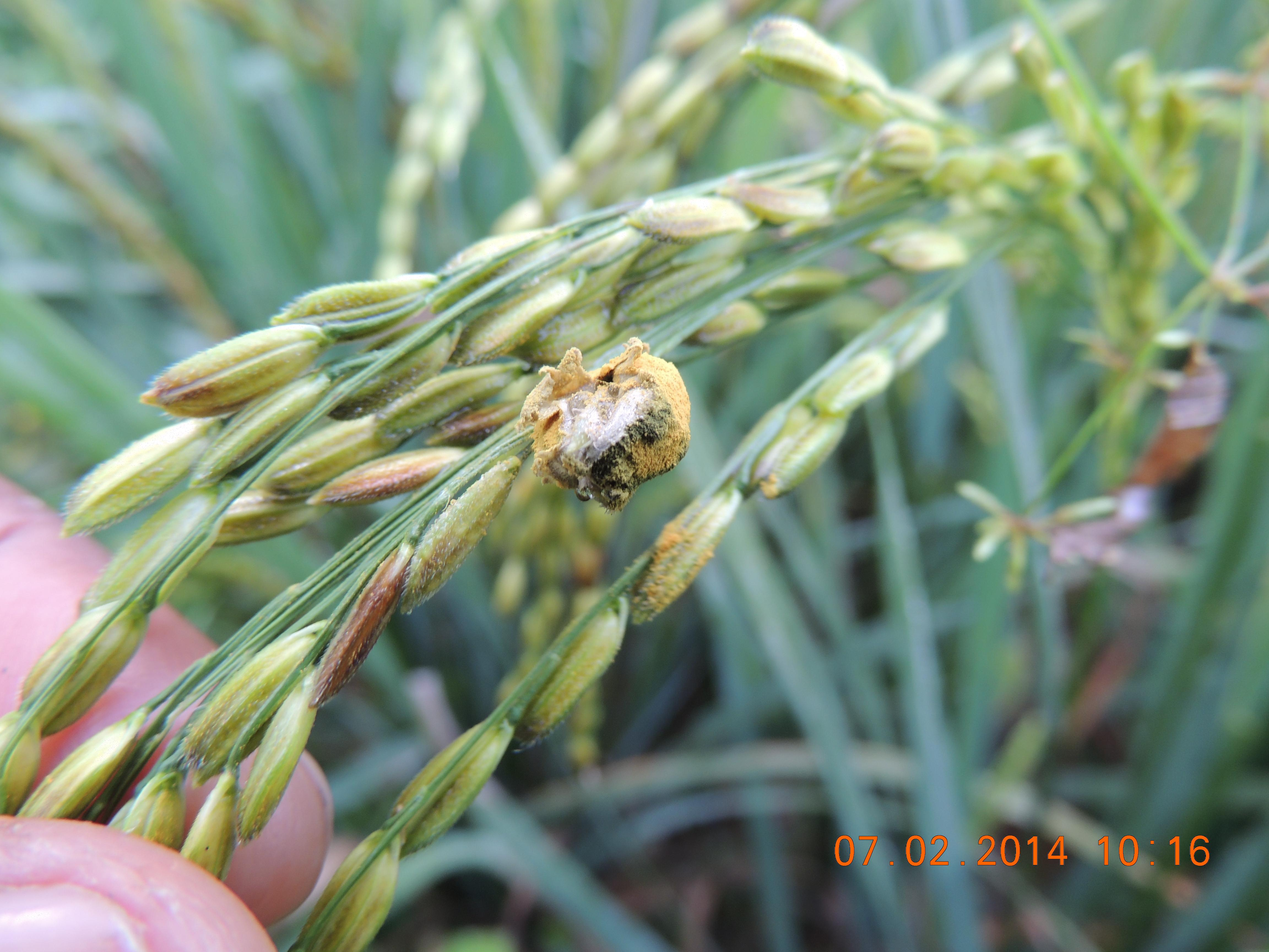False Smut: (520, 331, 708, 501)
